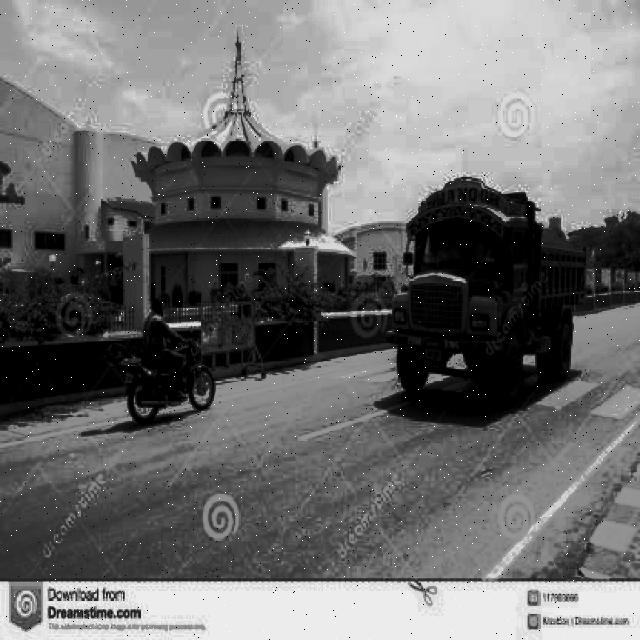HCV: (404, 215, 594, 393)
